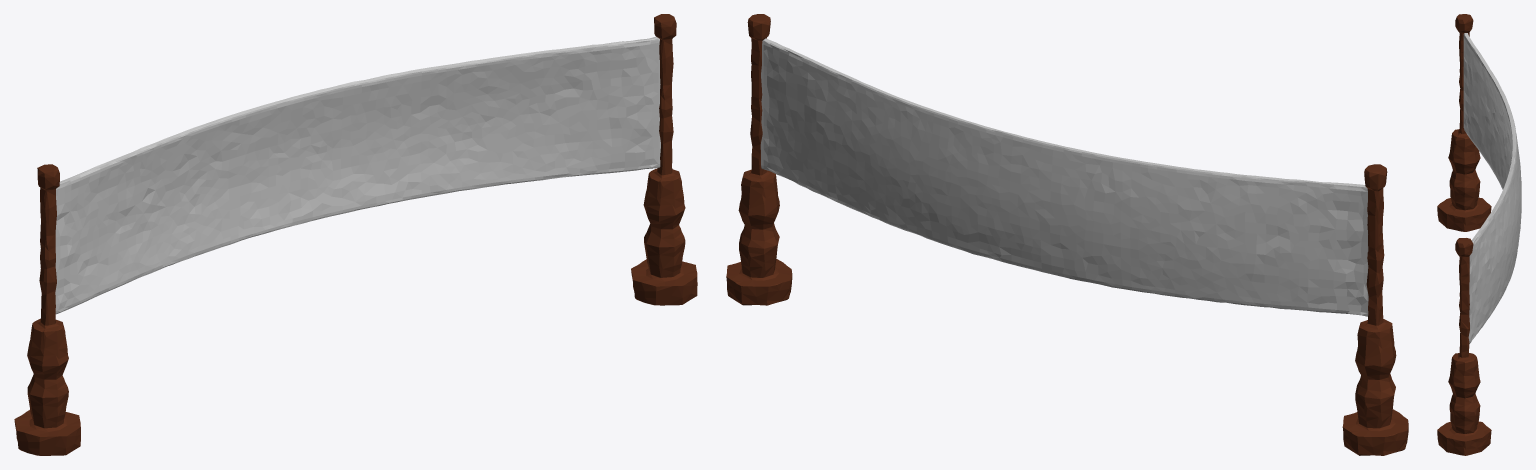
File: DesertLandSnakeFlag0219.obj
3 renders of one model, left to right at view 1: azimuth 30°, elevation 25°; view 2: azimuth 150°, elevation 25°; view 3: azimuth 270°, elevation 25°, orthographic. The views are drawn at different scales.
Parts seen in each view (by area): view 1: Cube.003, Cube, Cube.002; view 2: Cube.003, Cube, Cube.002; view 3: Cube.003, Cube.002, Cube.
Part boxes in pixels (x1,y1,x2,y2): Cube.003: (55, 36, 660, 314); Cube: (14, 164, 80, 455); Cube.002: (631, 14, 697, 305); Cube.003: (760, 38, 1368, 316); Cube: (1342, 164, 1408, 455); Cube.002: (726, 14, 792, 305); Cube.003: (1463, 33, 1521, 343); Cube.002: (1437, 238, 1491, 455); Cube: (1437, 14, 1491, 231).
Size of the model in its own units: 27.57 by 10.7 by 4.
